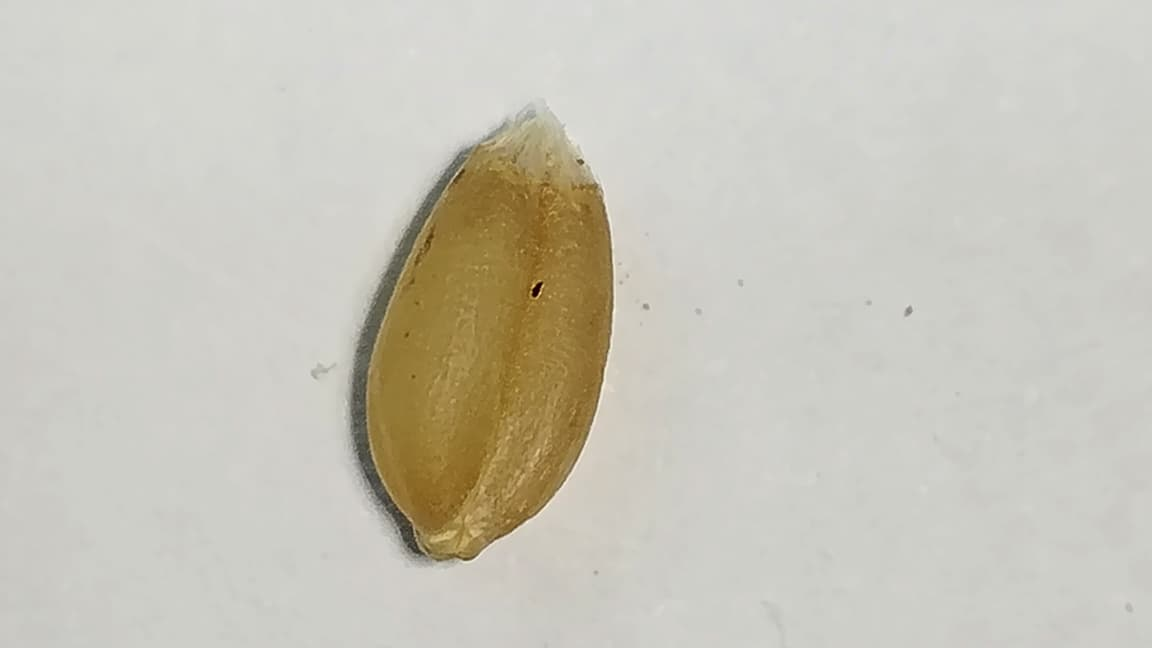healthy: (367, 115, 612, 558)
